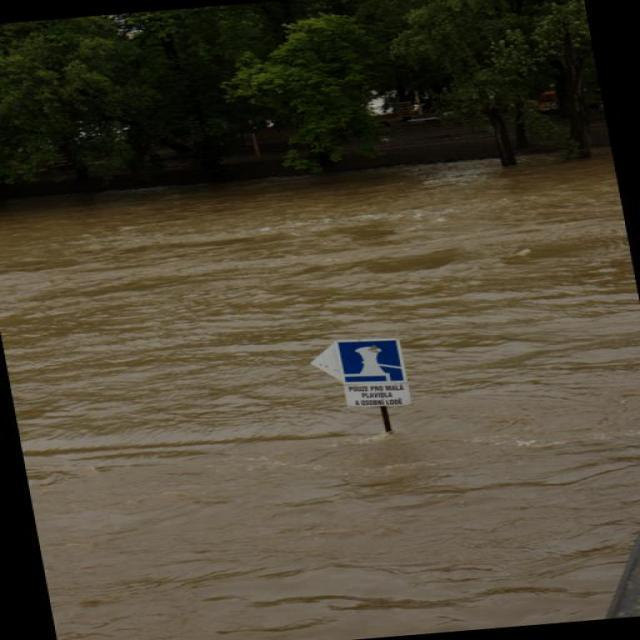flood: (0, 139, 639, 640)
